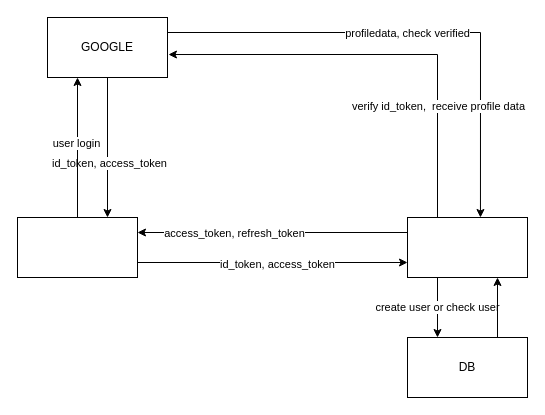
This 545x415 diagram has some shape labels left out. Here are the shapes that lost their labels. From the top down, the centre of each, then its label:
point (77, 247): Client
point (467, 247): Server
